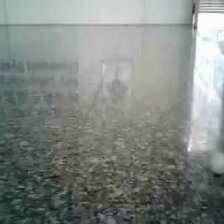w: (209, 151, 224, 174)
